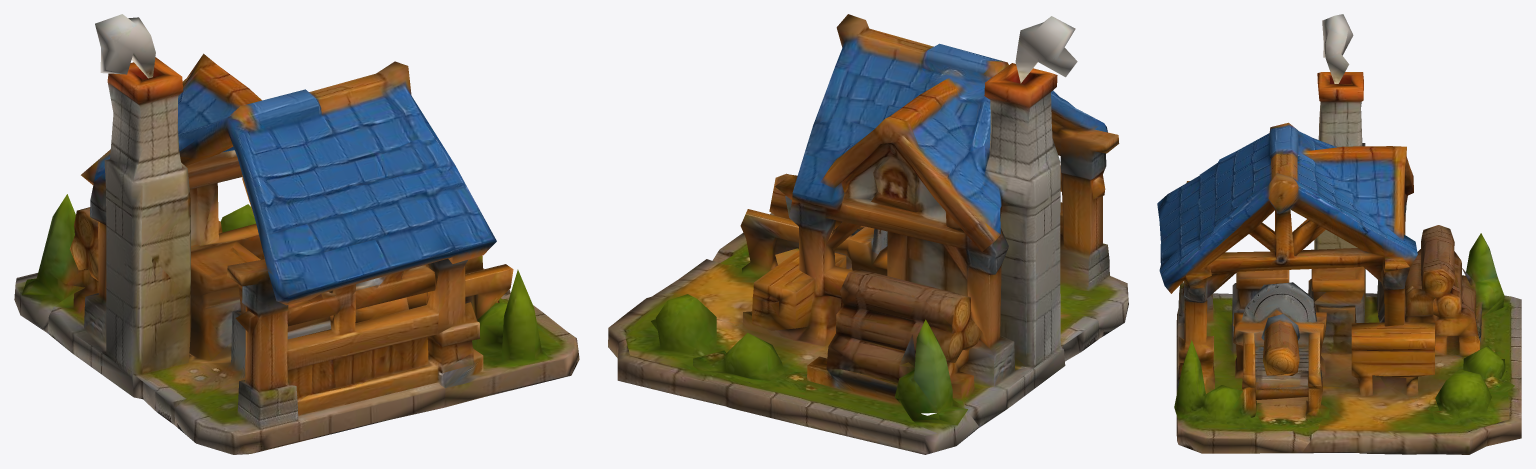
The model's file is sawmill.glb.
The picture shows the model from 3 angles, left to right: view 1: azimuth 30°, elevation 25°; view 2: azimuth 150°, elevation 25°; view 3: azimuth 270°, elevation 25°; orthographic projection. The views are drawn at different scales.
Visible parts, largest first — view 1: tripo_node_69312c70-f249-455d-97be-138f9e9b4bea; view 2: tripo_node_69312c70-f249-455d-97be-138f9e9b4bea; view 3: tripo_node_69312c70-f249-455d-97be-138f9e9b4bea.
Boxes of the visible parts, x1,y1,x2,y2 form: tripo_node_69312c70-f249-455d-97be-138f9e9b4bea: [14, 14, 579, 454]; tripo_node_69312c70-f249-455d-97be-138f9e9b4bea: [608, 14, 1128, 454]; tripo_node_69312c70-f249-455d-97be-138f9e9b4bea: [1157, 14, 1521, 454].
Size of the model in its own units: 1.84 by 1.64 by 1.84.
1 material, 1 textured.
